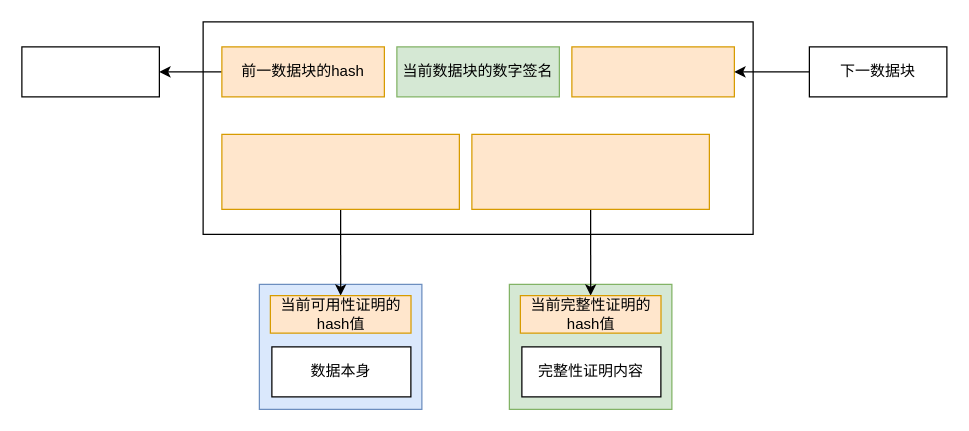
This 969x431 diagram has some shape labels left out. The shapes that lost their labels are listed below. From the top down, each one's box as (x1, y1, x2, y2) in pixels, then its label:
(21, 46, 159, 97): 父数据块
(571, 46, 734, 97): 当前数据块的hash
(221, 133, 459, 209): 可用性证明引用
(471, 133, 709, 209): 完整性证明引用
